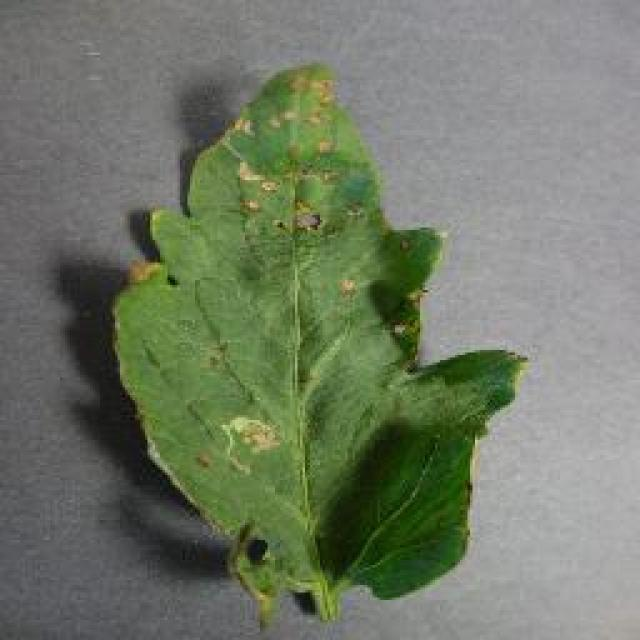Tomato___Bacterial_spot: (106, 61, 532, 638)
